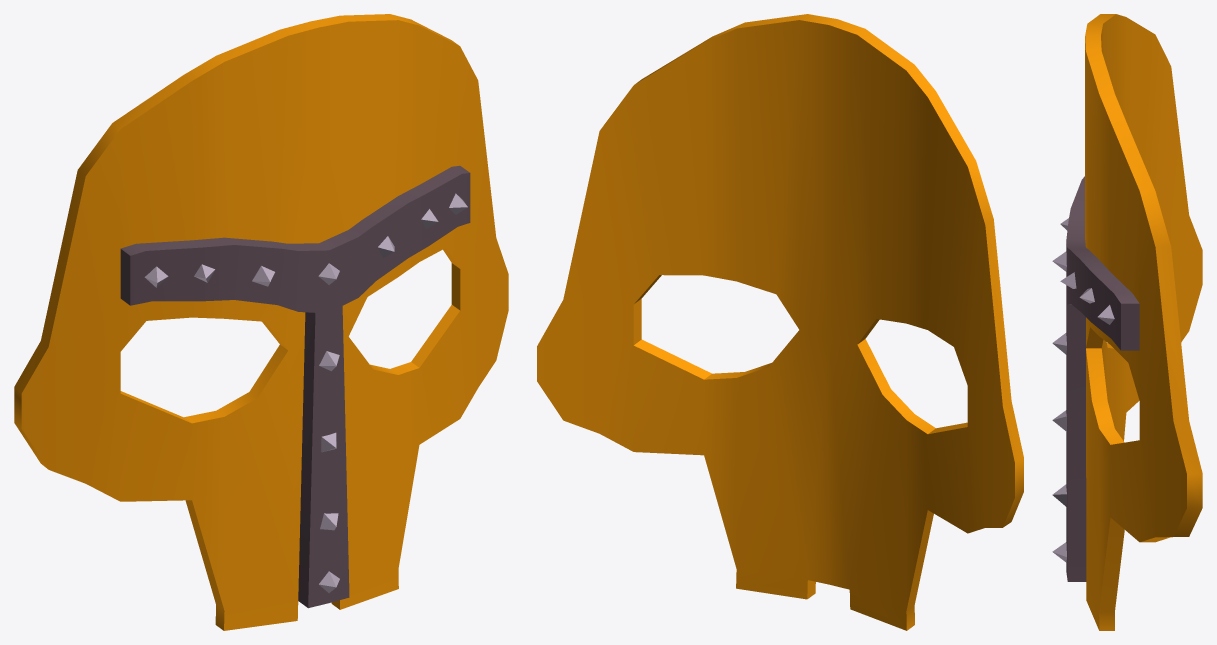
Rendered from Mask_07_02.fbx.
3 renders of one model, left to right at view 1: azimuth 30°, elevation 25°; view 2: azimuth 150°, elevation 25°; view 3: azimuth 270°, elevation 25°, orthographic. The views are drawn at different scales.
Parts seen in each view (by area): view 1: Mask_07_02; view 2: Mask_07_02; view 3: Mask_07_02.
Boxes of the visible parts, box(x1,y1,x2,y2) form: Mask_07_02: box(14, 14, 508, 630); Mask_07_02: box(537, 14, 1023, 630); Mask_07_02: box(1052, 14, 1202, 630).
Bounding box in the file's own units: 28.77 × 33.21 × 8.17.
